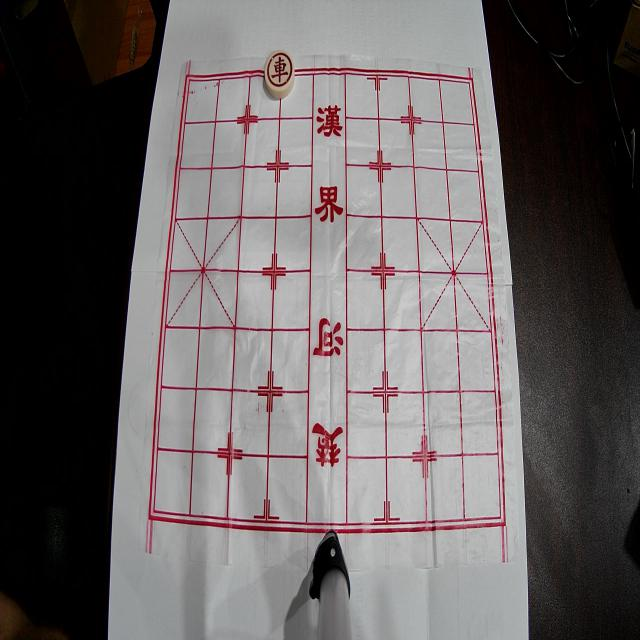red-chariot: (264, 50, 294, 99)
